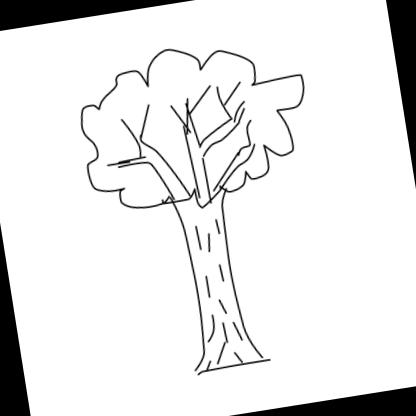branch_line: (98, 72, 261, 194)
crown_cloud: (67, 23, 321, 217)
trunk_bark: (176, 214, 255, 336)
